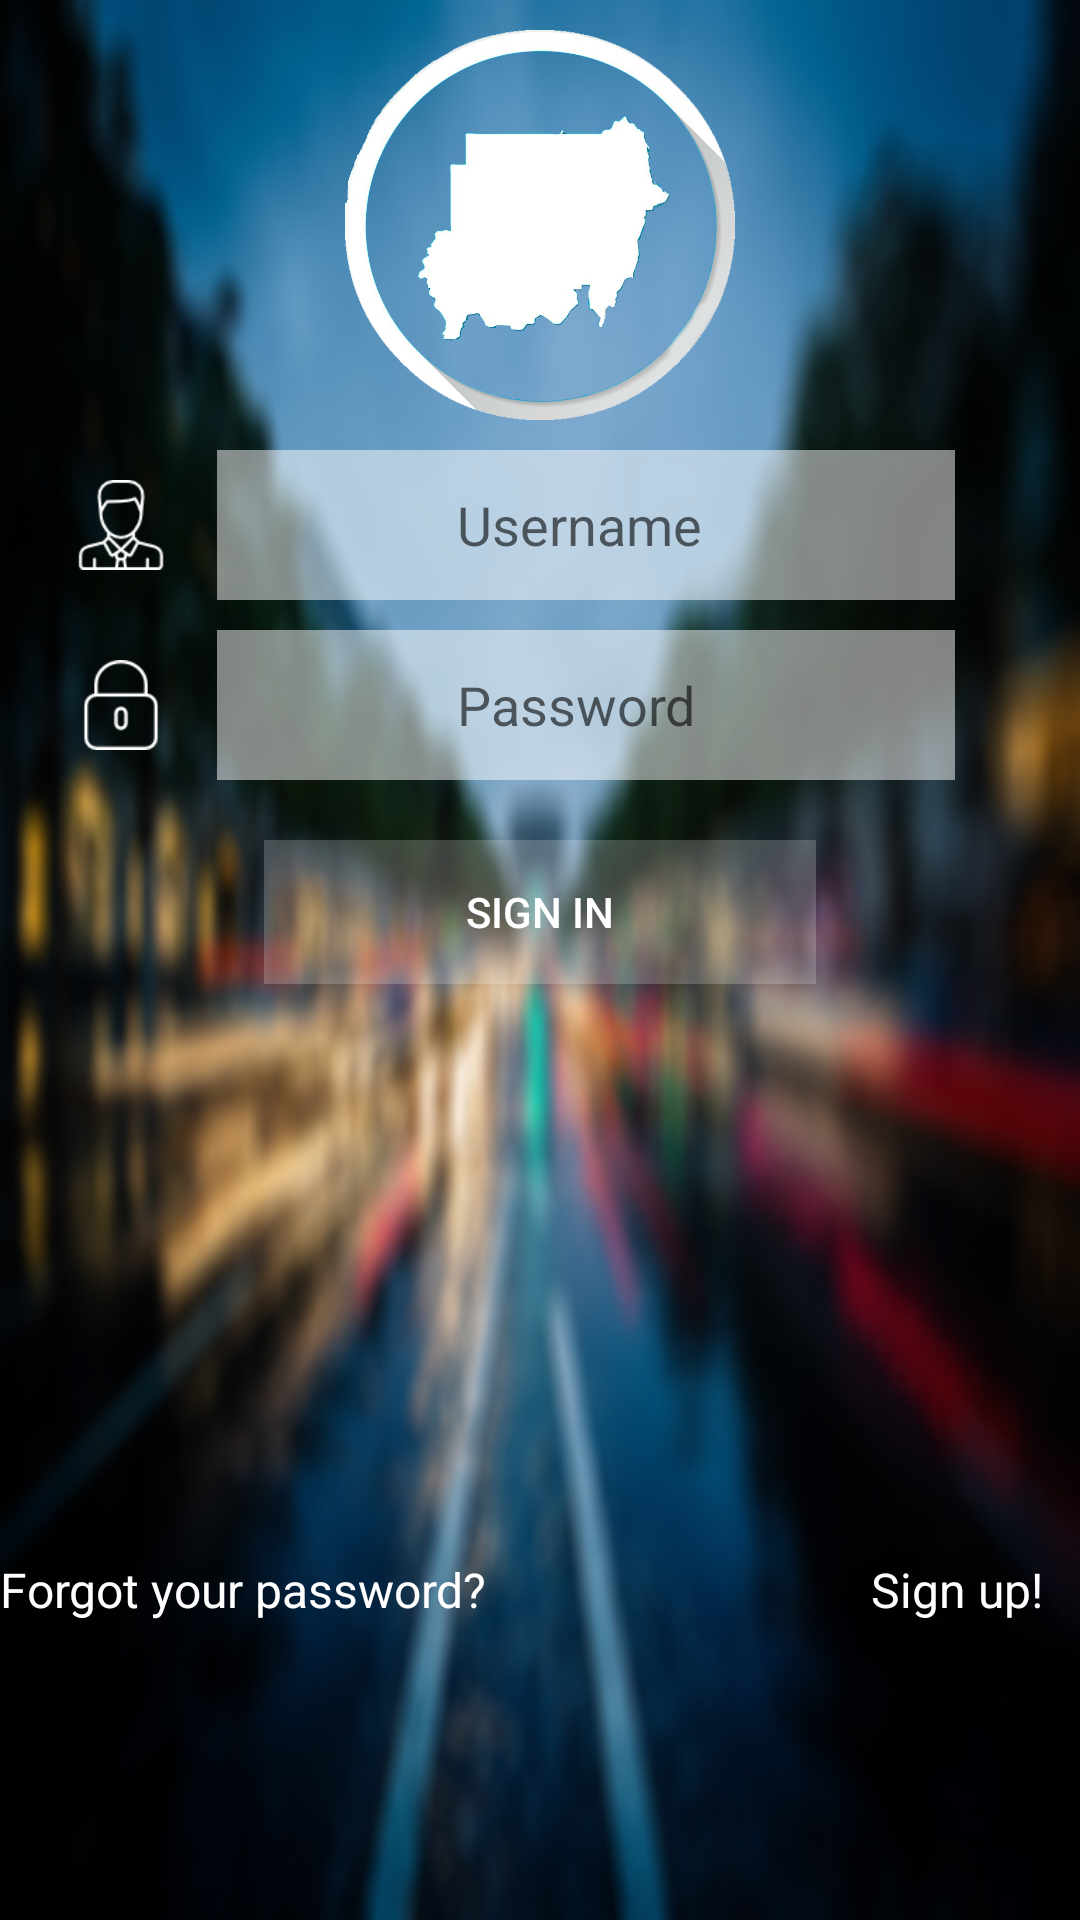

Named icons in this screenshot (1080px x 1920px) and their bounding boxes, (x1, y1, x2, y2):
locked: (65, 660, 172, 750)
